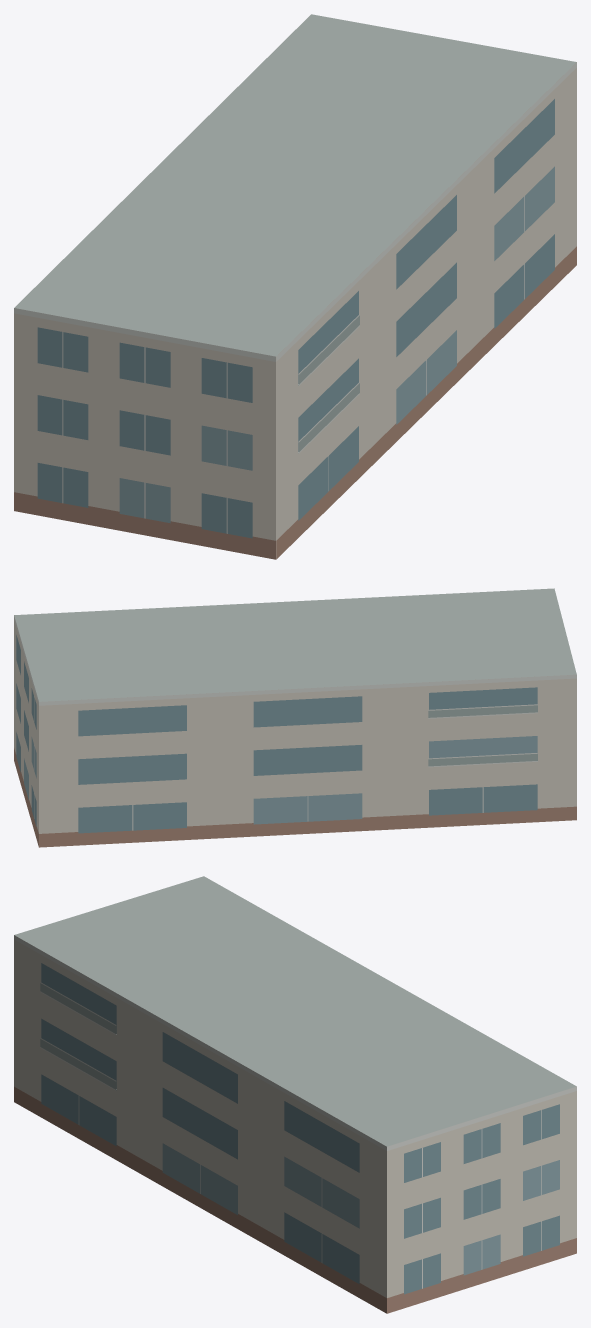
The model's file is survey-upis-33003215.glb.
The picture shows the model from 3 angles, top to bottom: view 1: azimuth 30°, elevation 25°; view 2: azimuth 150°, elevation 25°; view 3: azimuth 270°, elevation 25°; orthographic projection. The views are drawn at different scales.
Parts seen in each view (by area): view 1: survey-upis-33003215.tmp; view 2: survey-upis-33003215.tmp; view 3: survey-upis-33003215.tmp.
Boxes of the visible parts, x1,y1,x2,y2 form: survey-upis-33003215.tmp: (14,14,576,559); survey-upis-33003215.tmp: (14,588,576,847); survey-upis-33003215.tmp: (14,876,576,1313).
Size of the model in its own units: 31.79 by 9.15 by 27.95.
